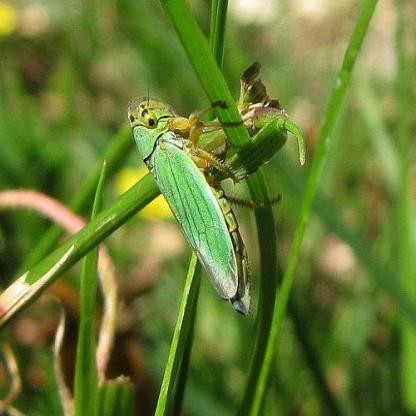Green-Leafhopper: (121, 98, 252, 321)
